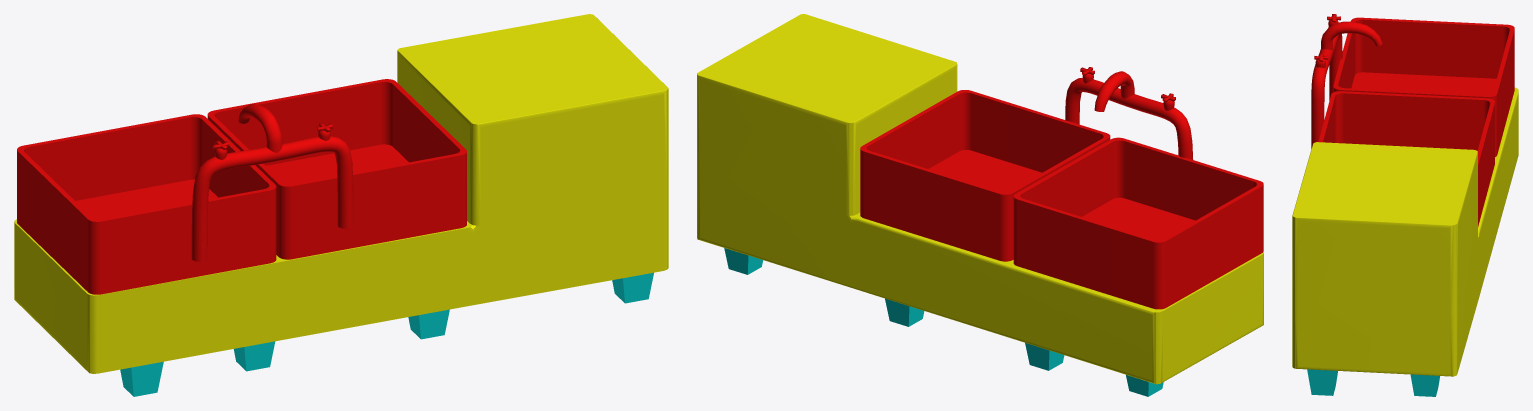
Rendered from Sink.fbx.
3 renders of one model, left to right at view 1: azimuth 30°, elevation 25°; view 2: azimuth 150°, elevation 25°; view 3: azimuth 270°, elevation 25°, orthographic. The views are drawn at different scales.
Parts seen in each view (by area): view 1: sink_stand, sink1, sink, Pipe, sinkLeg4, faucet, sinkLeg1, sinkLeg6, sinkLeg2; view 2: sink_stand, sink1, sink, Pipe, faucet, sinkLeg3, sinkLeg7, sinkLeg; view 3: sink_stand, sink1, sink, Pipe, faucet, sinkLeg1, sinkLeg.
Boxes of the visible parts, box(x1,y1,x2,y2) form: sink_stand: box(14, 14, 668, 373); sink1: box(17, 114, 276, 294); sink: box(207, 79, 466, 259); Pipe: box(191, 136, 353, 261); sinkLeg4: box(120, 361, 163, 396); faucet: box(238, 104, 282, 152); sinkLeg1: box(612, 272, 653, 303); sinkLeg6: box(233, 341, 275, 371); sinkLeg2: box(408, 309, 449, 339); sink_stand: box(697, 14, 1263, 384); sink1: box(1013, 137, 1263, 309); sink: box(860, 90, 1110, 261); Pipe: box(1065, 78, 1193, 159); faucet: box(1094, 71, 1134, 111); sinkLeg3: box(885, 298, 924, 326); sinkLeg7: box(1025, 343, 1064, 370); sinkLeg: box(724, 248, 763, 274); sink_stand: box(1292, 87, 1518, 376); sink1: box(1333, 17, 1514, 156); sink: box(1318, 91, 1494, 226); Pipe: box(1311, 27, 1342, 148); faucet: box(1321, 21, 1382, 50); sinkLeg1: box(1307, 369, 1337, 395); sinkLeg: box(1410, 374, 1439, 396).
Bounding box in the file's own units: 396 × 178 × 164.
